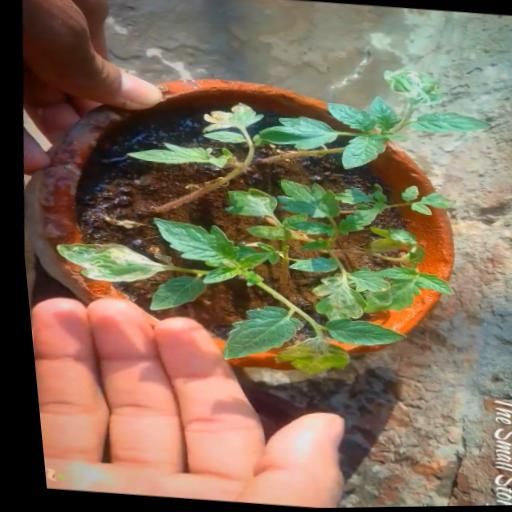Healthy: (206, 303, 302, 369), (141, 217, 239, 265), (314, 316, 406, 351), (269, 178, 341, 222), (138, 274, 205, 318), (333, 131, 392, 175), (409, 110, 492, 138), (328, 205, 379, 240), (321, 102, 375, 133), (361, 95, 403, 134), (406, 273, 450, 297), (363, 263, 412, 282), (280, 220, 328, 237)
Leaf_Miner: (263, 334, 345, 379), (300, 271, 366, 325), (377, 68, 449, 111), (214, 185, 275, 221), (237, 224, 292, 244)
